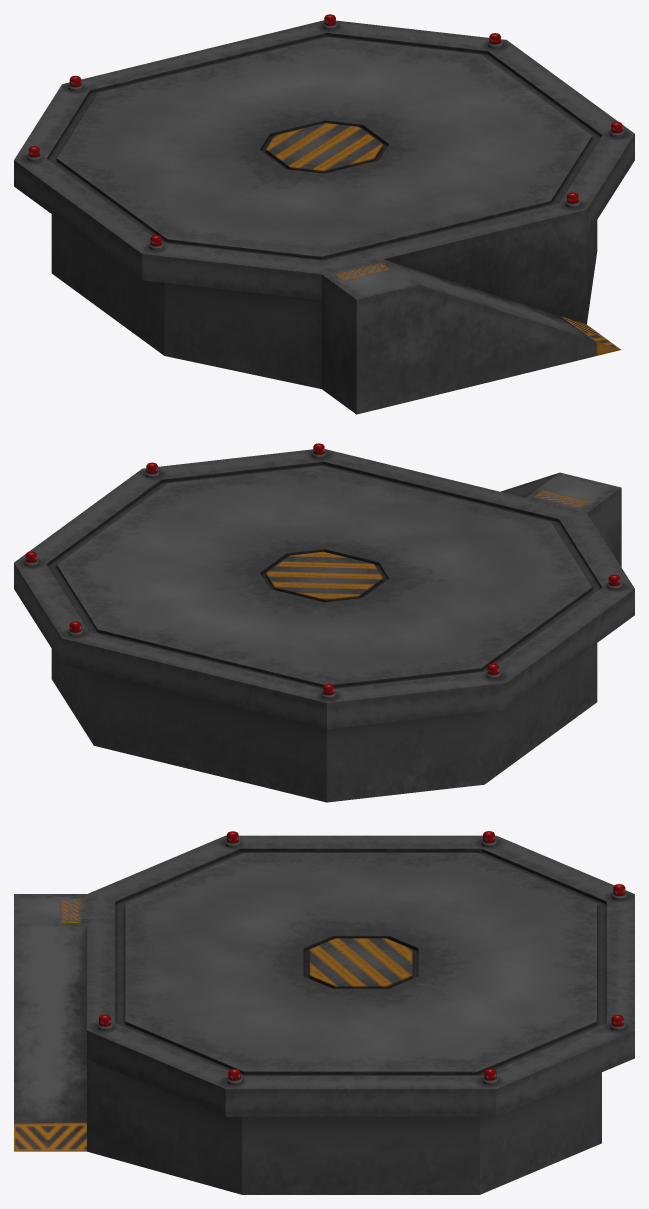
Rendered from Platform+Lights.fbx.
The picture shows the model from 3 angles, top to bottom: view 1: azimuth 30°, elevation 25°; view 2: azimuth 150°, elevation 25°; view 3: azimuth 270°, elevation 25°; orthographic projection. The views are drawn at different scales.
Visible parts, largest first — view 1: Platform, Lights; view 2: Platform, Lights; view 3: Platform, Lights.
Boxes of the visible parts, x1,y1,x2,y2 form: Platform: (14, 20, 634, 414); Lights: (26, 14, 624, 250); Platform: (14, 449, 634, 802); Lights: (23, 443, 621, 699); Platform: (14, 835, 634, 1194); Lights: (97, 831, 627, 1085).
Size of the model in its own units: 1230 by 299 by 1273.
